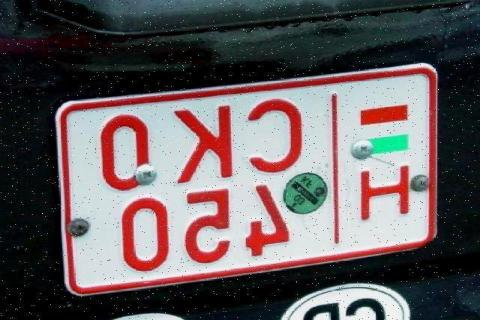LicensePlate: (94, 107, 428, 263)
